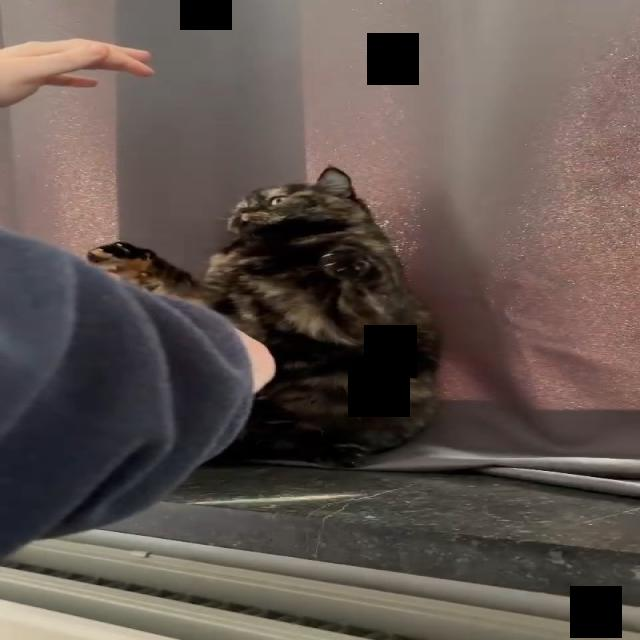authorized: (84, 164, 443, 468)
